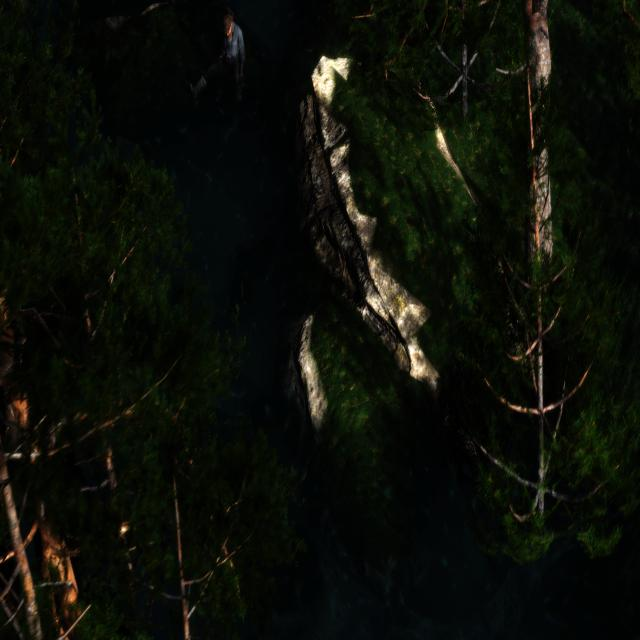Human: (185, 14, 248, 131)
